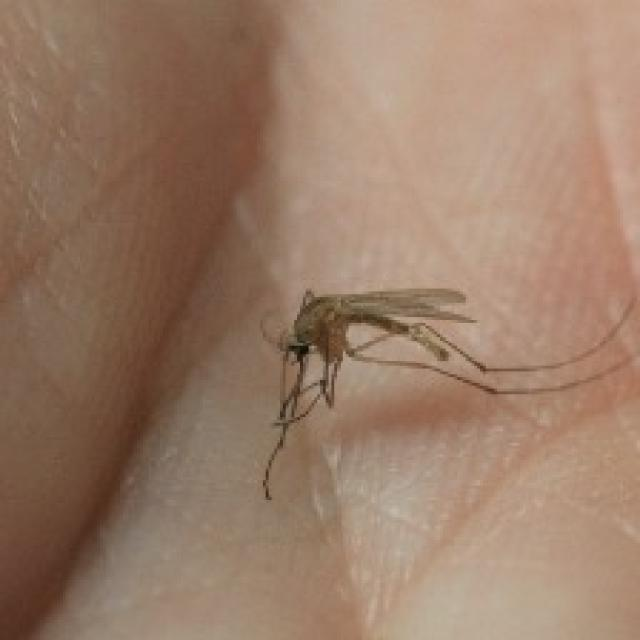culex: (257, 280, 637, 500)
